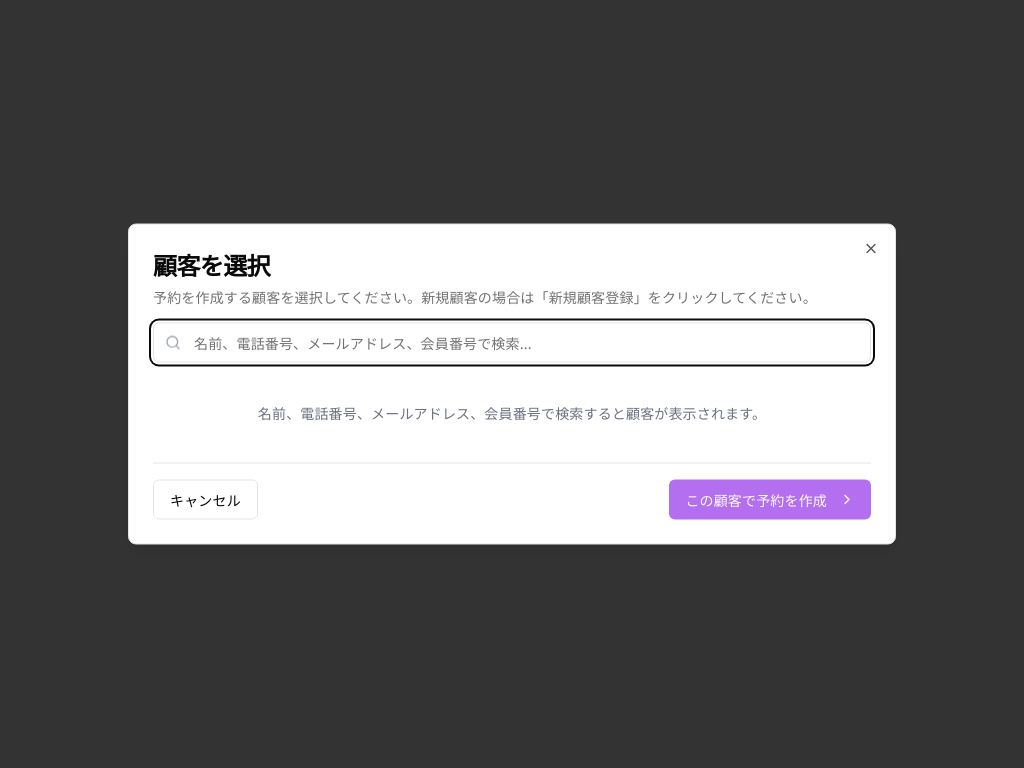
Test: CustomerSelectionDialog › clears the prior search and customer selection every time it is reopened
Later steps or results of the test are not shown.
Type "09012345678" into the field with placeholder "名前、電話番号、メールアドレス、会員番号で検索..." at (512, 342), box [153, 322, 871, 362]
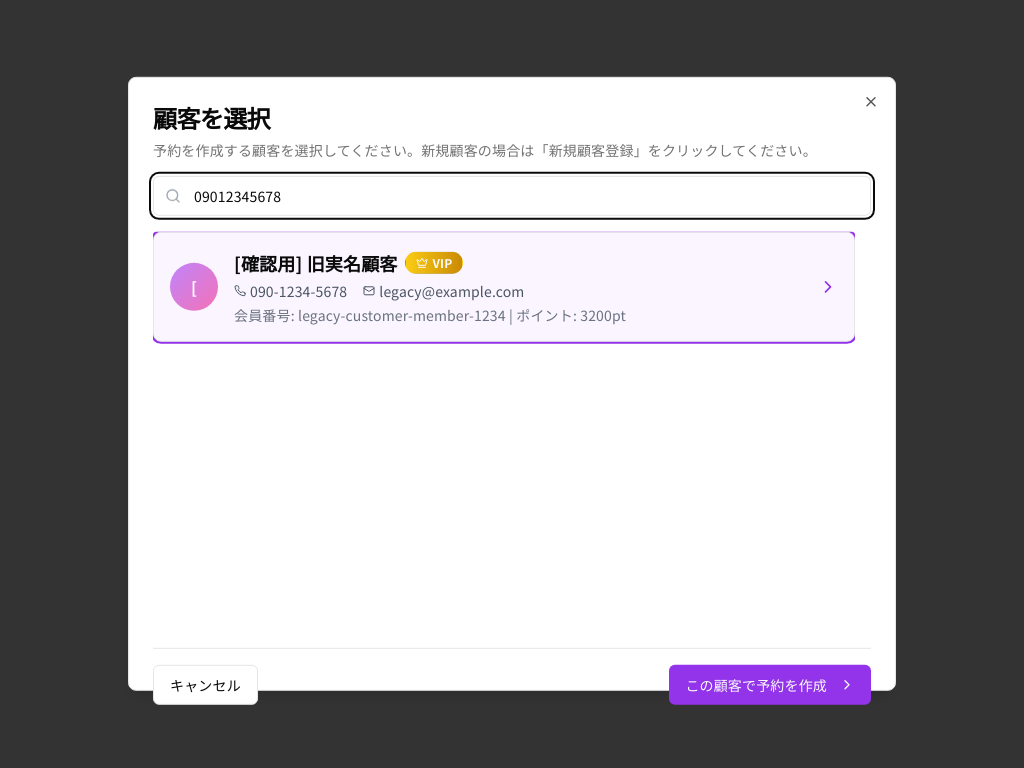
Result: the button "この顧客で予約を作成" is enabled at [669, 665, 871, 705]
